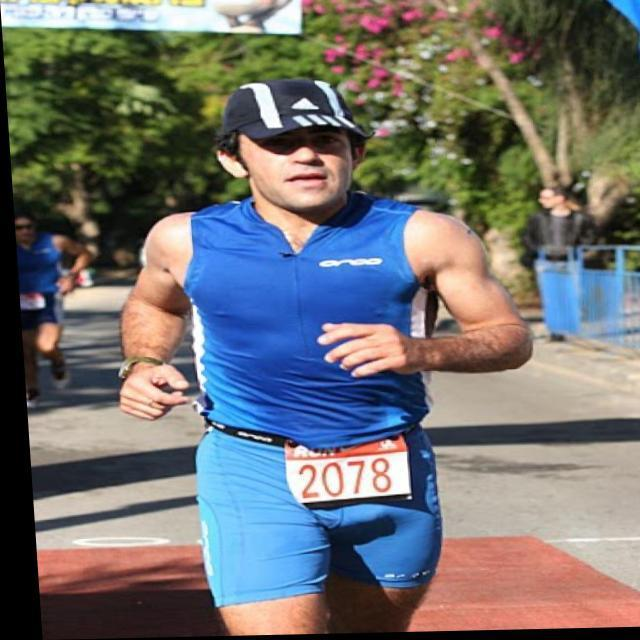dorsal: (271, 436, 416, 511)
